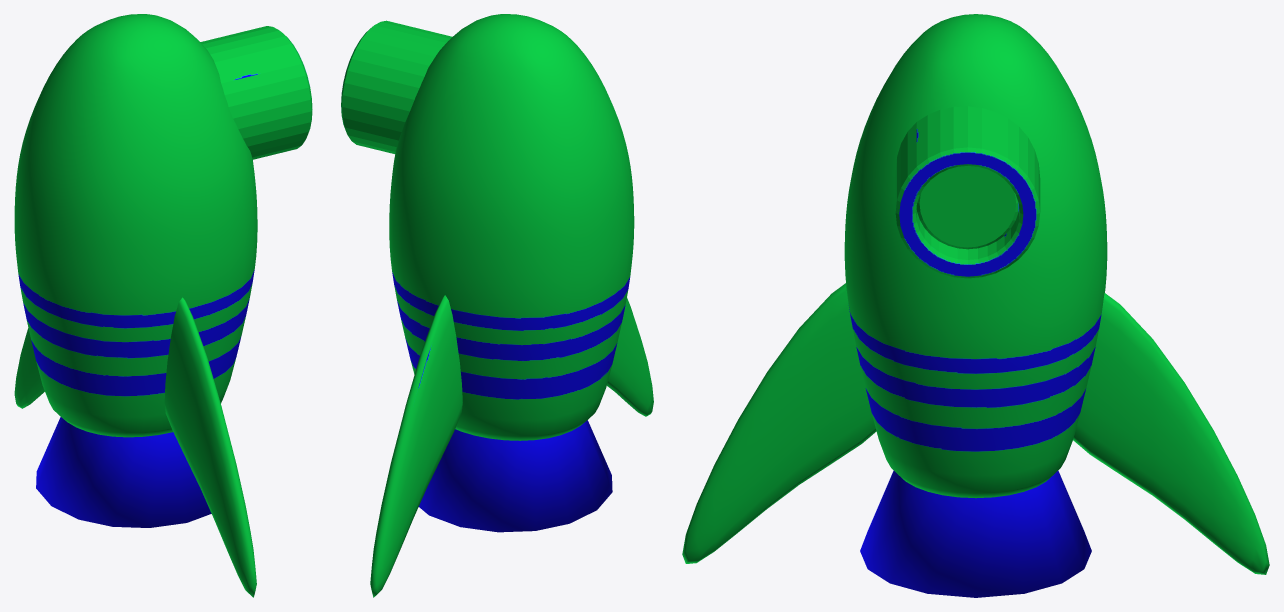
The model's file is GreenShip61.fbx.
3 views of the same model, side by side, from view 1: azimuth 30°, elevation 25°; view 2: azimuth 150°, elevation 25°; view 3: azimuth 270°, elevation 25° (orthographic). The views are drawn at different scales.
Parts seen in each view (by area): view 1: Cylinder.004; view 2: Cylinder.004; view 3: Cylinder.004.
Boxes of the visible parts, x1=… form: Cylinder.004: x1=14, y1=14, x2=312, y2=597; Cylinder.004: x1=341, y1=14, x2=653, y2=597; Cylinder.004: x1=682, y1=14, x2=1269, y2=597.
Size of the model in its own units: 118 by 219 by 213.
Materials: 1 (1 with a texture image).
